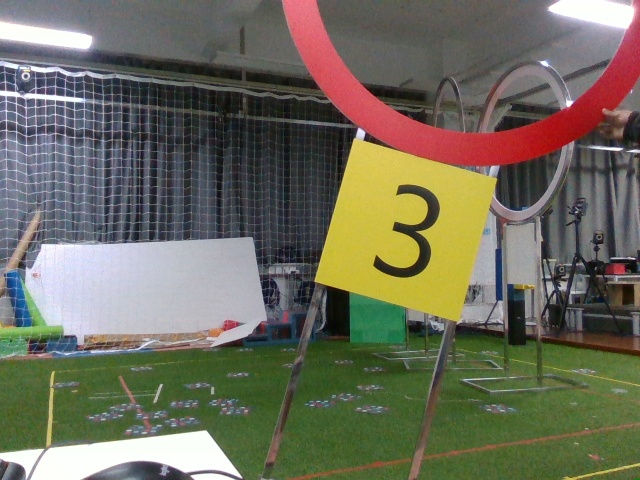target: (343, 160, 471, 293)
